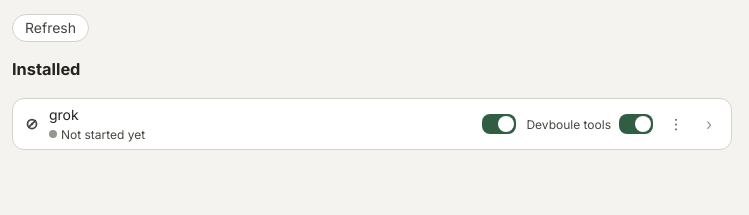
Scenario: tools switch wiring › reverts the switch and reports inside the row on rejection
Click the switch named "Devboule tools for grok".
click(636, 124)  # box x1=619 y1=114 x2=653 y2=134
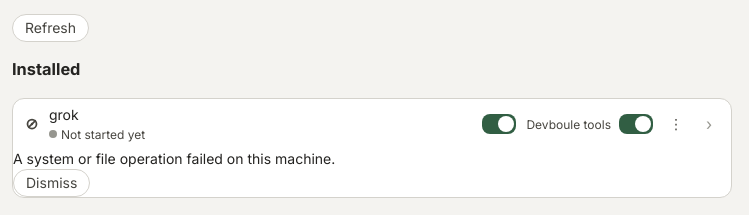
Expected: the message "A system or file operation failed on this machine. Dismiss" is shown, x1=13 y1=150 x2=472 y2=198
